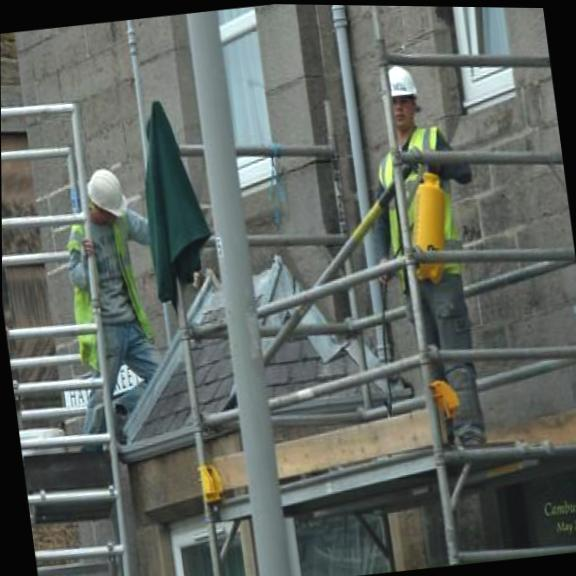safety_vest: (372, 120, 470, 295), (59, 196, 157, 368)
